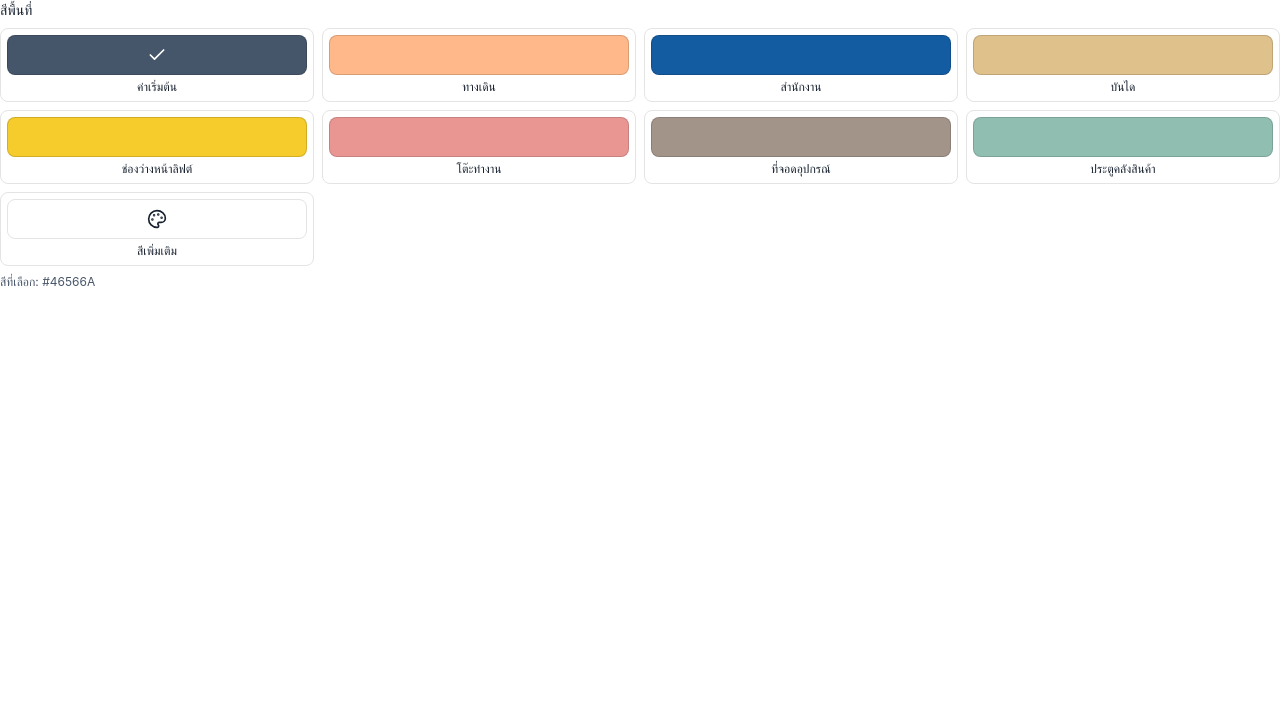
it: AreaColorPicker › provides accessible Thai presets and custom controls
The width and height of the screenshot is (1280, 720).
Expected: the element "สีพื้นที่" is shown, [0,0,1279,290]
Step 1. Click the button "สีเพิ่มเติม" → (157, 229), box [0,192,314,266]
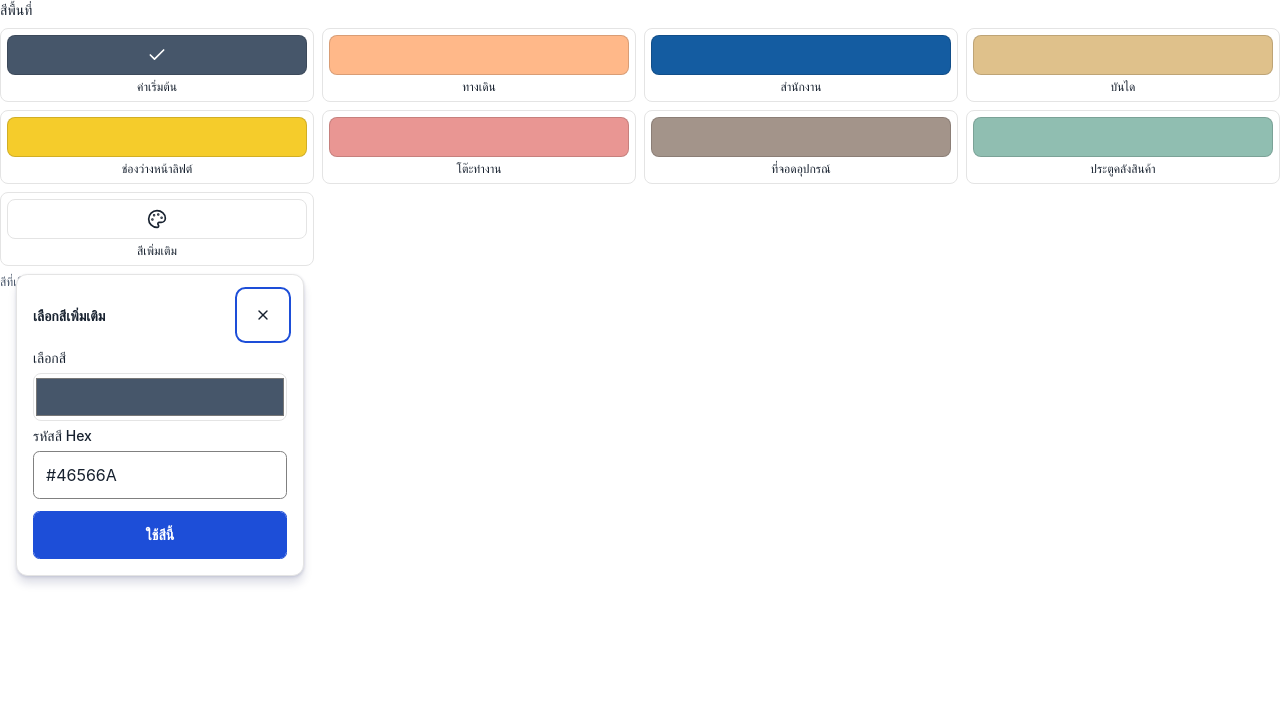
Expected: the field labelled "รหัสสี Hex" is shown, [33,451,287,499]
Expected: the button "ใช้สีนี้" is enabled, [33,511,287,559]
